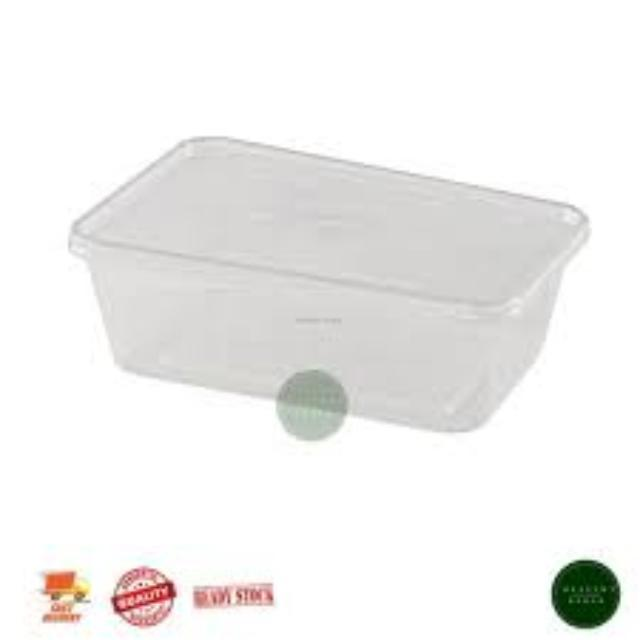Recipiente plastico: (70, 138, 588, 436)
